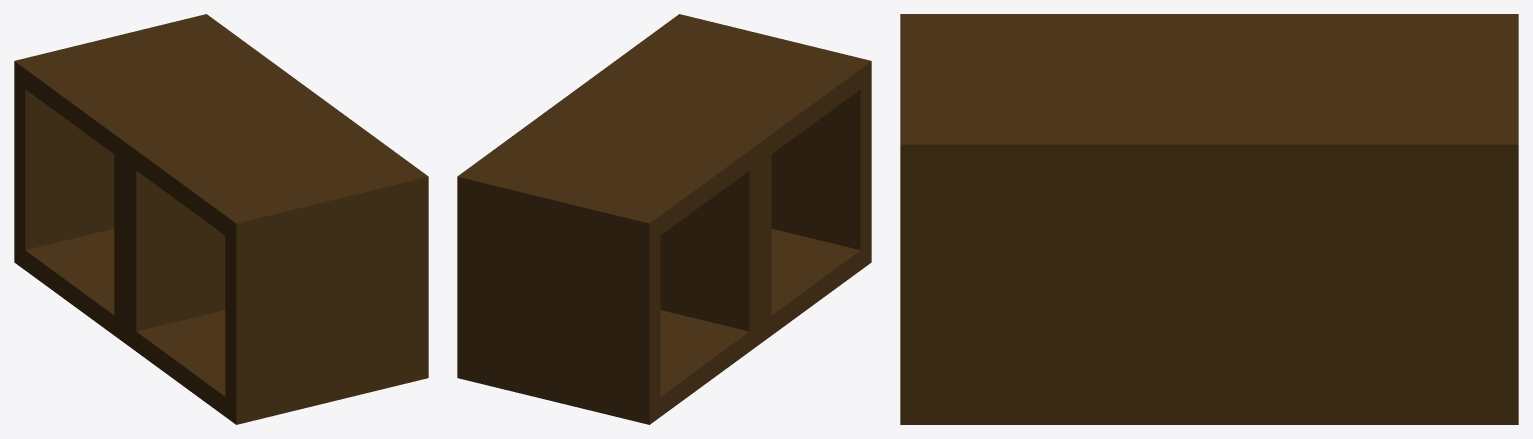
File: L_Winning_ISD1_Cabinet.fbx
3 renders of one model, left to right at view 1: azimuth 30°, elevation 25°; view 2: azimuth 150°, elevation 25°; view 3: azimuth 270°, elevation 25°, orthographic. The views are drawn at different scales.
Visible parts, largest first — view 1: Cabinet; view 2: Cabinet; view 3: Cabinet.
Boxes of the visible parts, bbox=[...] form: Cabinet: bbox=[14, 14, 428, 424]; Cabinet: bbox=[457, 14, 871, 424]; Cabinet: bbox=[900, 14, 1518, 424].
Size of the model in its own units: 150 by 150 by 300.
